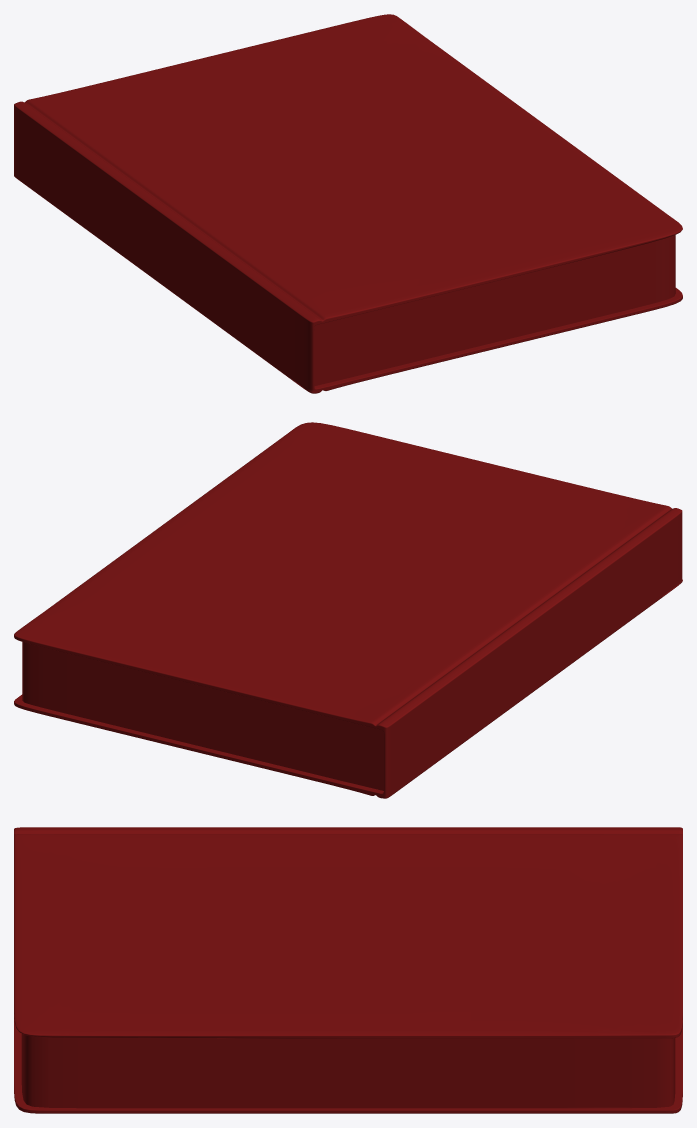
File: Notebook.fbx
The picture shows the model from 3 angles, top to bottom: view 1: azimuth 30°, elevation 25°; view 2: azimuth 150°, elevation 25°; view 3: azimuth 270°, elevation 25°; orthographic projection. The views are drawn at different scales.
Visible parts, largest first — view 1: Notebook, BookTitle; view 2: Notebook, BookTitle; view 3: Notebook, BookTitle.
Part boxes in pixels (<box>): Notebook: <box>14,14,682,393</box>; BookTitle: <box>46,21,461,166</box>; Notebook: <box>14,422,682,798</box>; BookTitle: <box>25,573,455,712</box>; Notebook: <box>14,827,682,1113</box>; BookTitle: <box>470,837,656,1032</box>.
Bounding box in the file's own units: 11 × 2.06 × 15.
